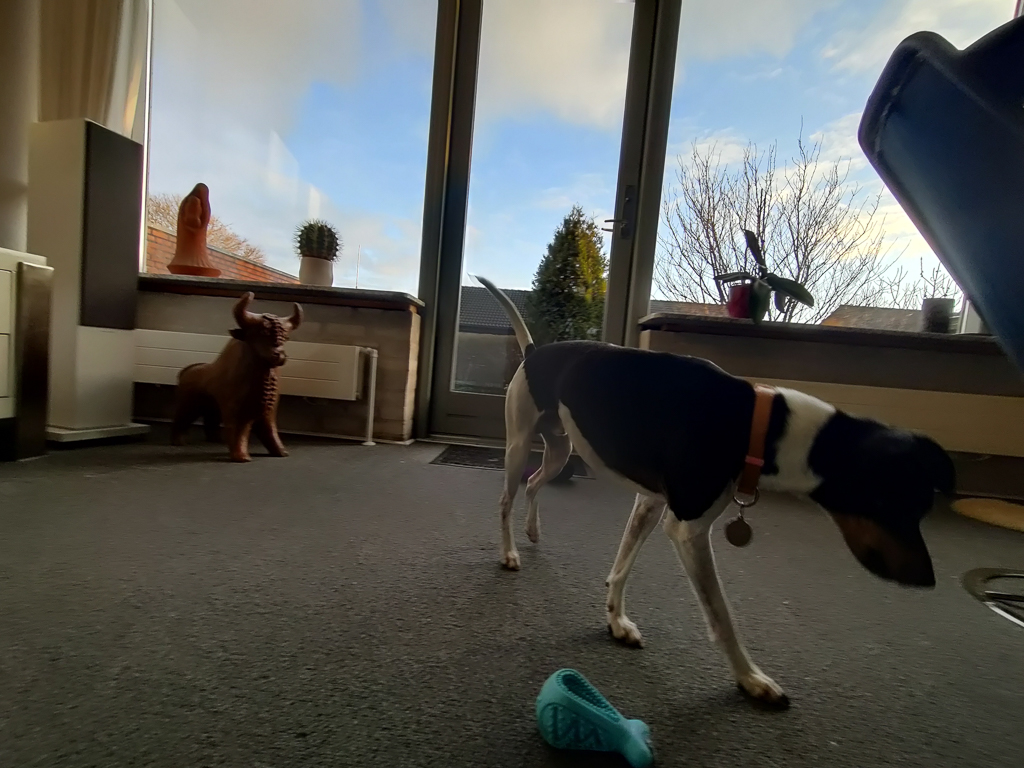Cattle: (162, 285, 310, 465)
Dog: (456, 251, 975, 720)
Humanoid: (163, 173, 228, 272)
